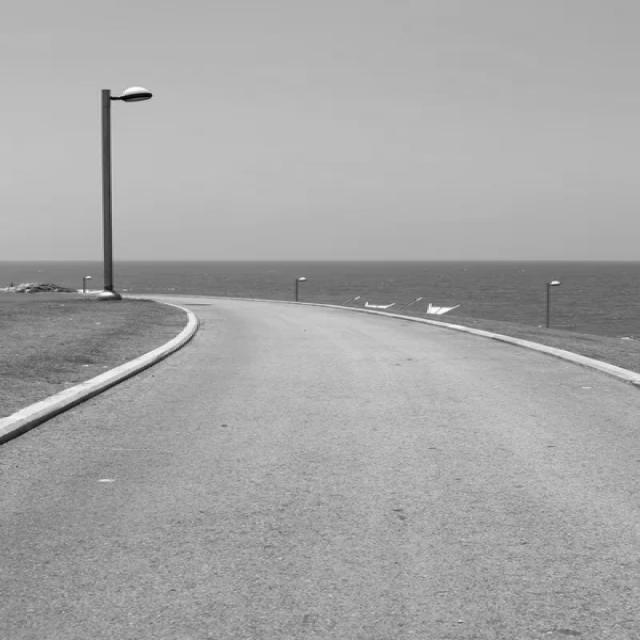Pole: (96, 87, 152, 300)
